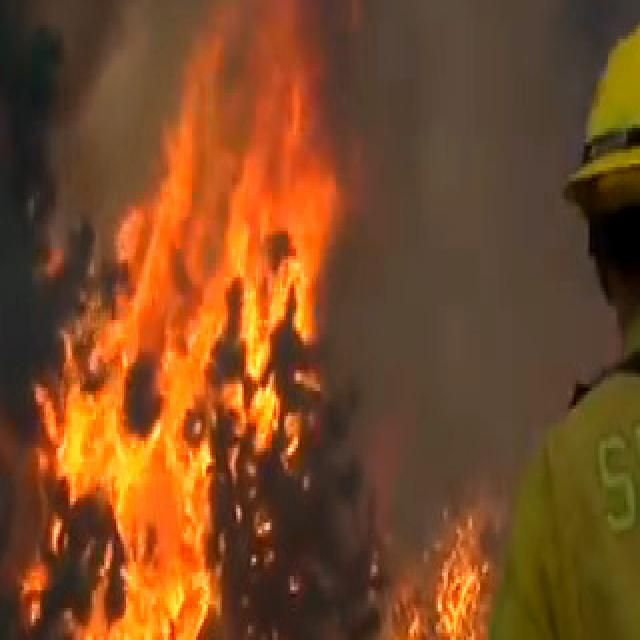fire: (40, 0, 366, 636)
